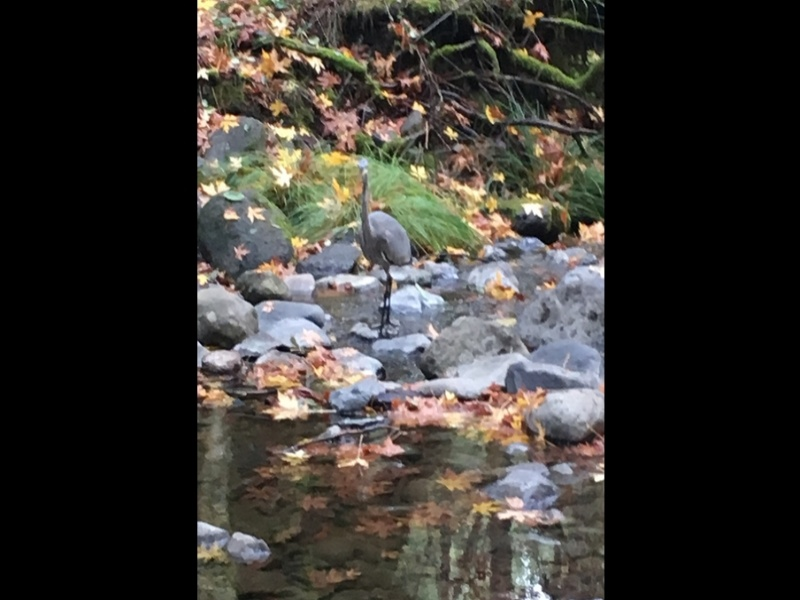heron: (351, 165, 415, 339)
